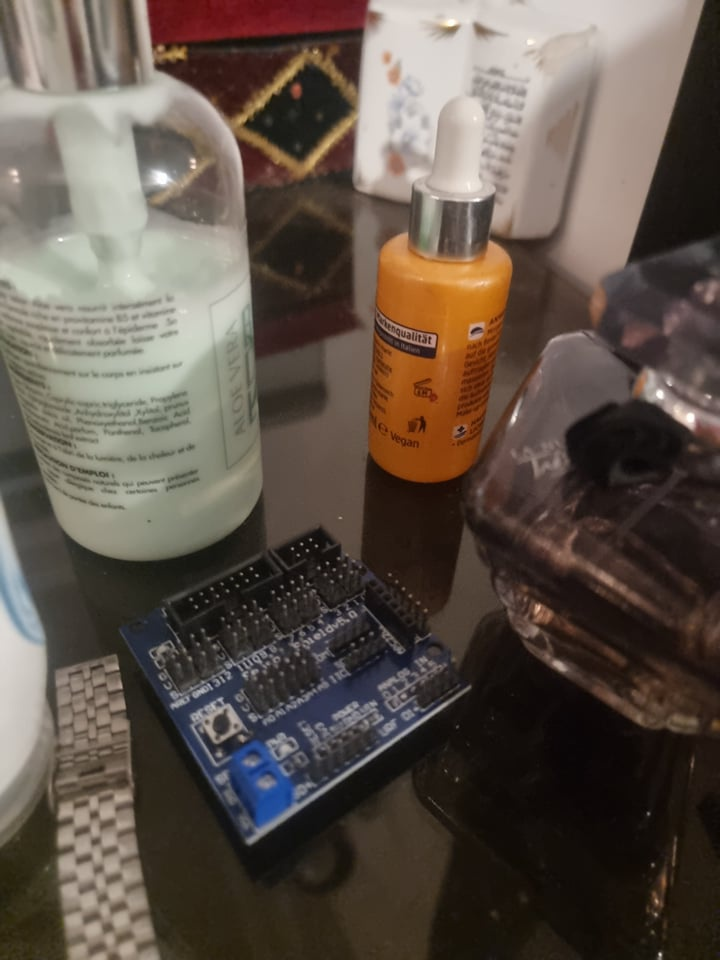5V EXPANSION: (116, 525, 476, 846)
